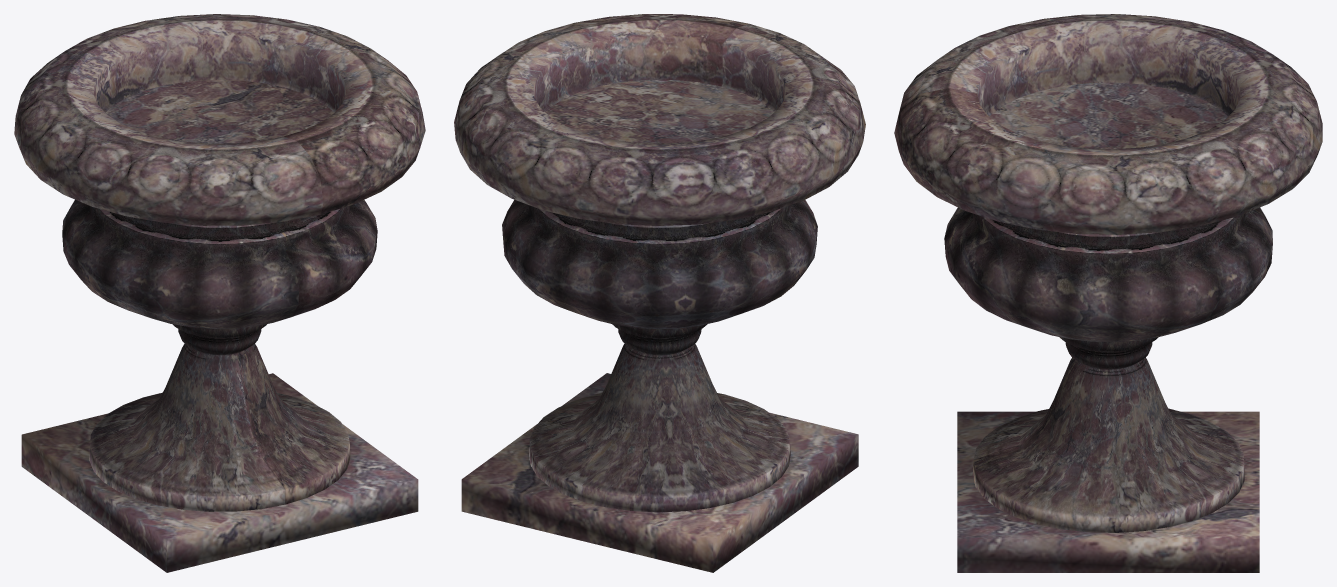
File: Sponza20.gltf
The picture shows the model from 3 angles, left to right: view 1: azimuth 30°, elevation 25°; view 2: azimuth 150°, elevation 25°; view 3: azimuth 270°, elevation 25°; orthographic projection. The views are drawn at different scales.
Size of the model in its own units: 0.4159 by 0.4507 by 0.4154.
Materials: 1 (1 with a texture image).
